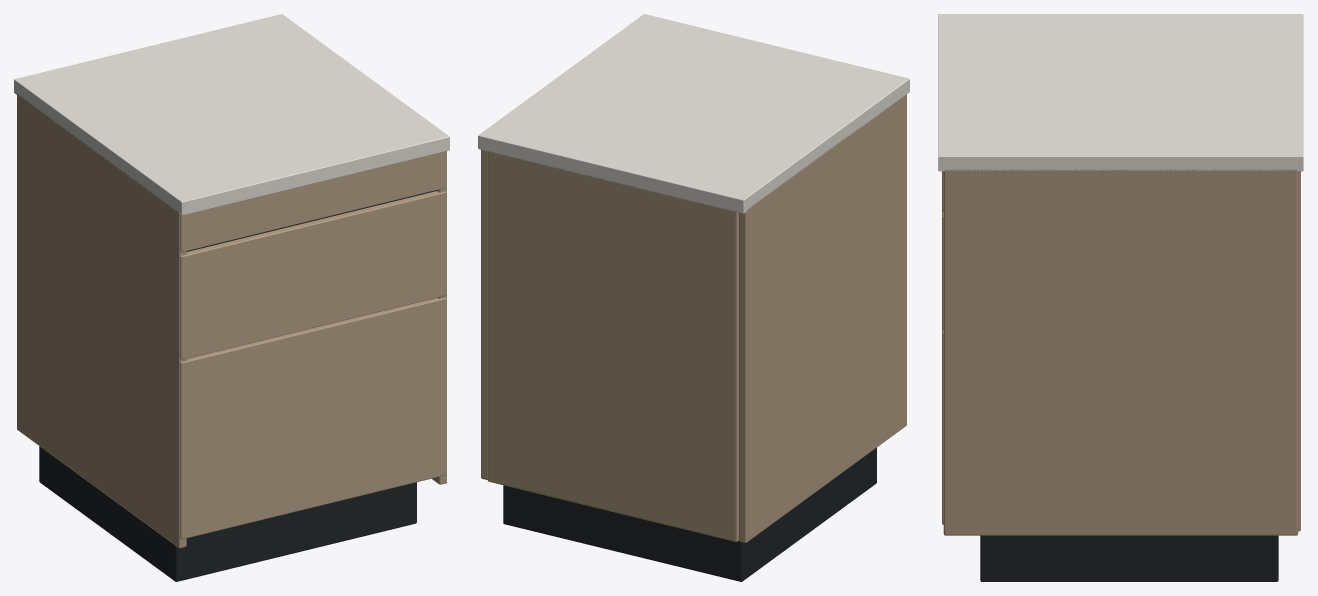
File: original-kitchen-box-drawer600.glb
The picture shows the model from 3 angles, left to right: view 1: azimuth 30°, elevation 25°; view 2: azimuth 150°, elevation 25°; view 3: azimuth 270°, elevation 25°; orthographic projection. The views are drawn at different scales.
Parts seen in each view (by area): view 1: original-kitchen-box-drawer600; view 2: original-kitchen-box-drawer600; view 3: original-kitchen-box-drawer600.
Boxes of the visible parts, x1=… form: original-kitchen-box-drawer600: x1=14, y1=14, x2=449, y2=581; original-kitchen-box-drawer600: x1=478, y1=14, x2=909, y2=581; original-kitchen-box-drawer600: x1=938, y1=14, x2=1303, y2=581.
Size of the model in its own units: 0.6 by 0.85 by 0.65.
